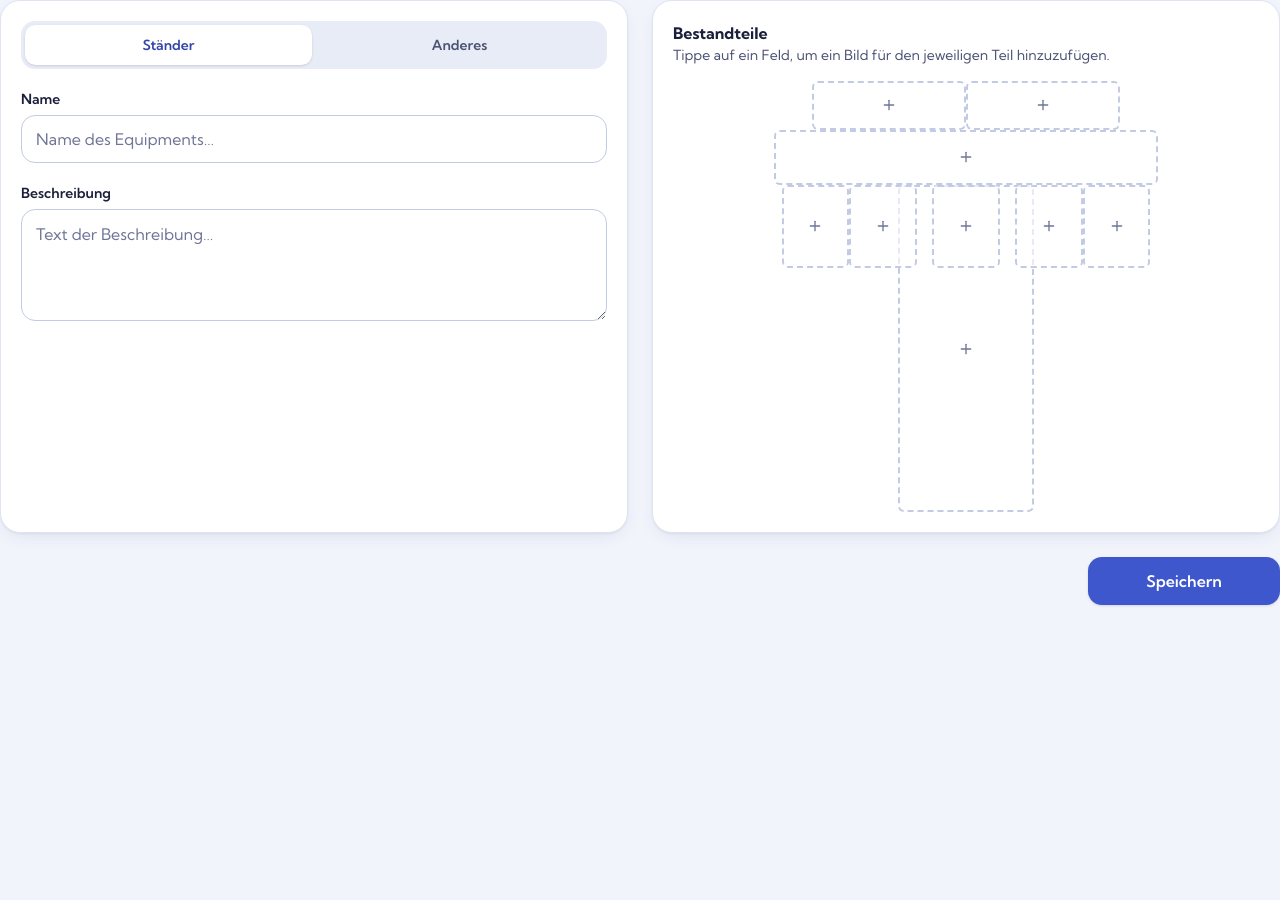
Test: EquipmentForm (create) › opens the image dialog when a slot is tapped
What coordinates should you click on to do the following:
click the button named "Fuß"
I would click on:
 (966, 349)
Its box is [898,185,1034,512].
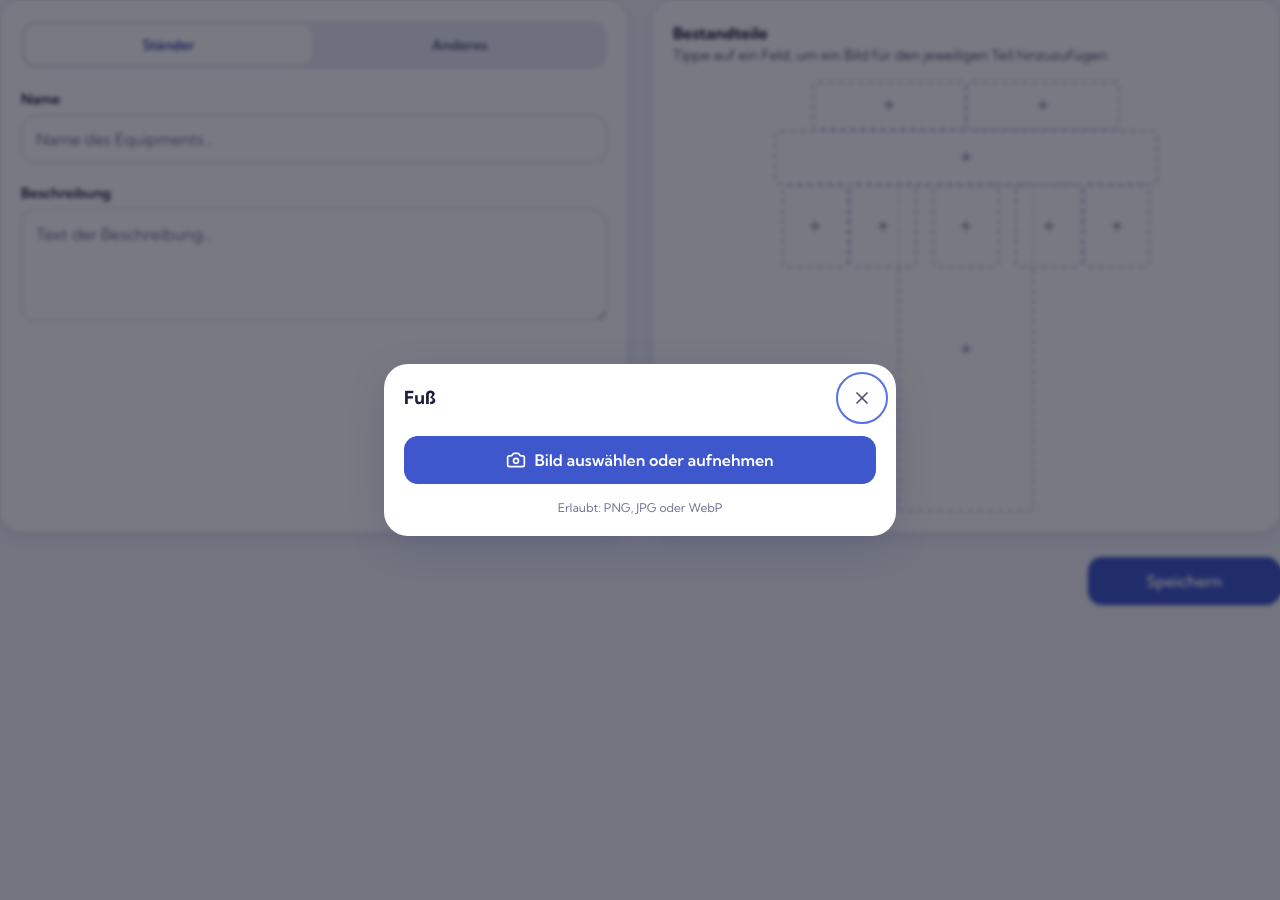
Check: the heading "Fuß" is shown, box [404,384,436,412]
Check: the file field "Bild auswählen oder aufnehmen" is shown, box [404,436,876,484]
